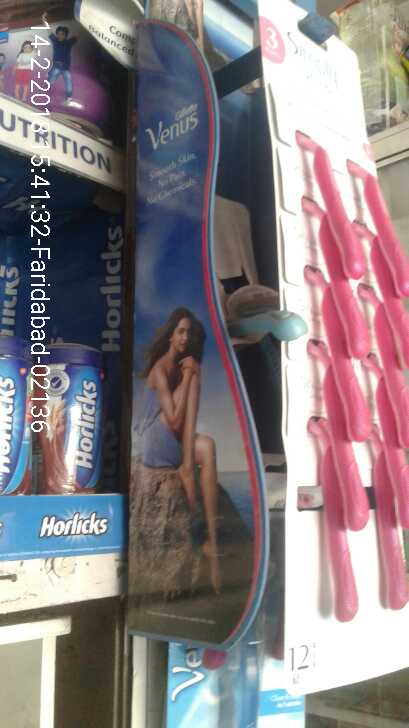reject: (109, 90, 234, 223)
